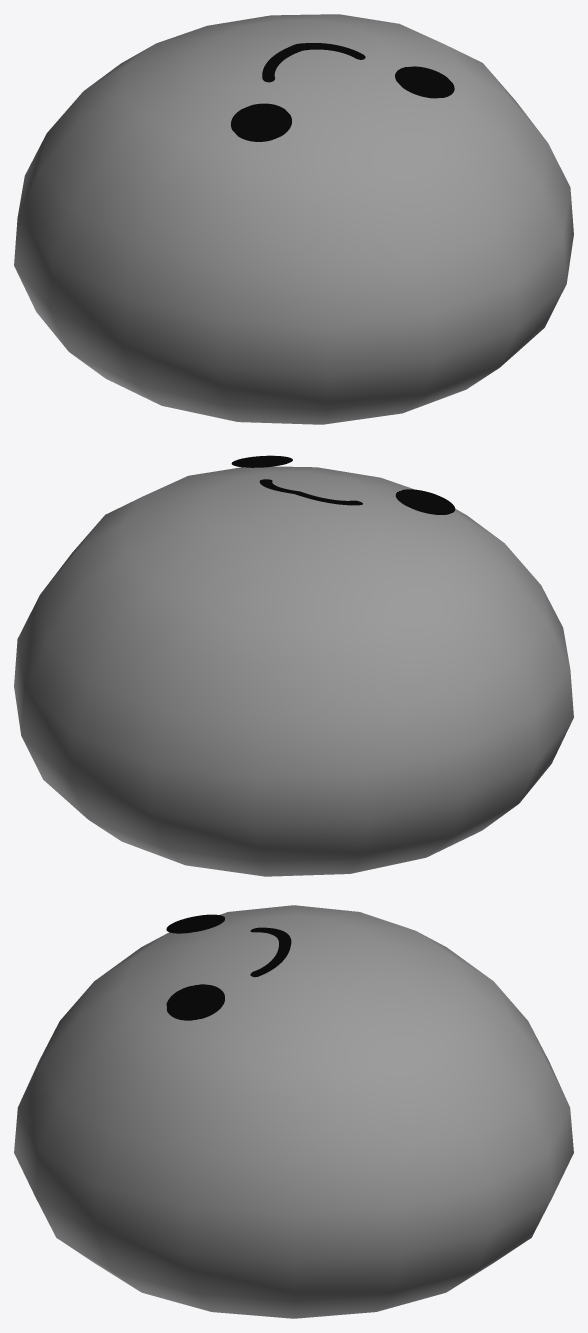
File: moti_purple.fbx
The picture shows the model from 3 angles, top to bottom: view 1: azimuth 30°, elevation 25°; view 2: azimuth 150°, elevation 25°; view 3: azimuth 270°, elevation 25°; orthographic projection.
Visible parts, largest first — view 1: moti_powder, moti_purple; view 2: moti_powder, moti_purple; view 3: moti_powder, moti_purple.
Part boxes in pixels (left/top/right/bottom): moti_powder: left=14, top=14, right=573, bottom=424; moti_purple: left=230, top=43, right=454, bottom=141; moti_powder: left=14, top=466, right=573, bottom=876; moti_purple: left=231, top=455, right=455, bottom=514; moti_powder: left=14, top=905, right=573, bottom=1318; moti_purple: left=166, top=914, right=291, bottom=1020.
Size of the model in its own units: 46.58 by 46.58 by 27.61.
